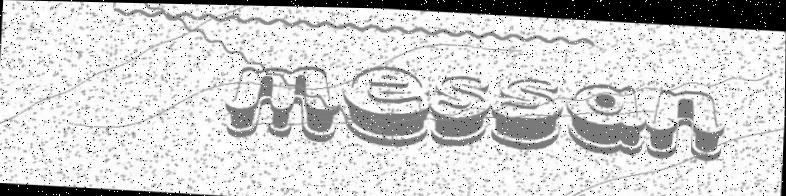a: (565, 79, 647, 152)
e: (341, 62, 431, 145)
m: (225, 60, 343, 140)
n: (646, 85, 726, 156)
s: (491, 74, 564, 148), (427, 73, 492, 146)
